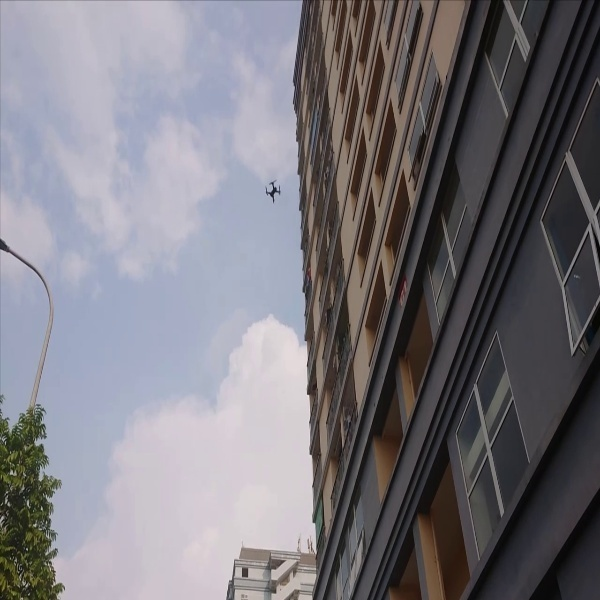drone: (259, 174, 288, 204)
